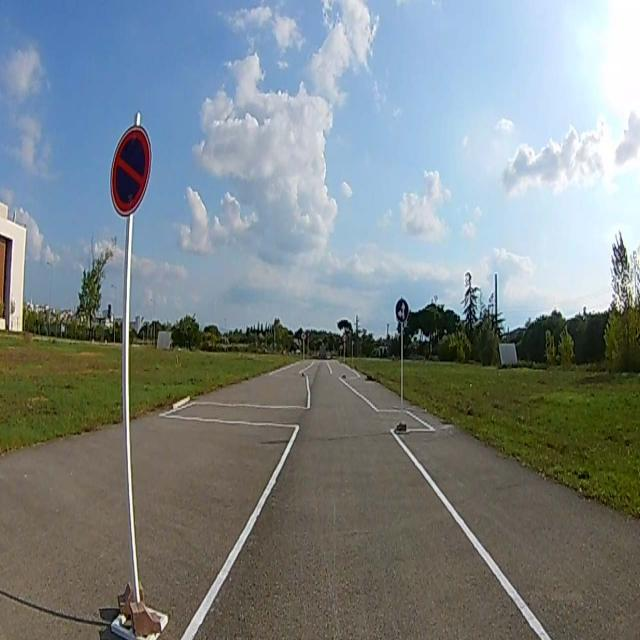ilerisol: (394, 298, 408, 322)
parkyasak: (111, 124, 149, 210)
